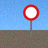sign: (23, 4, 39, 37)
